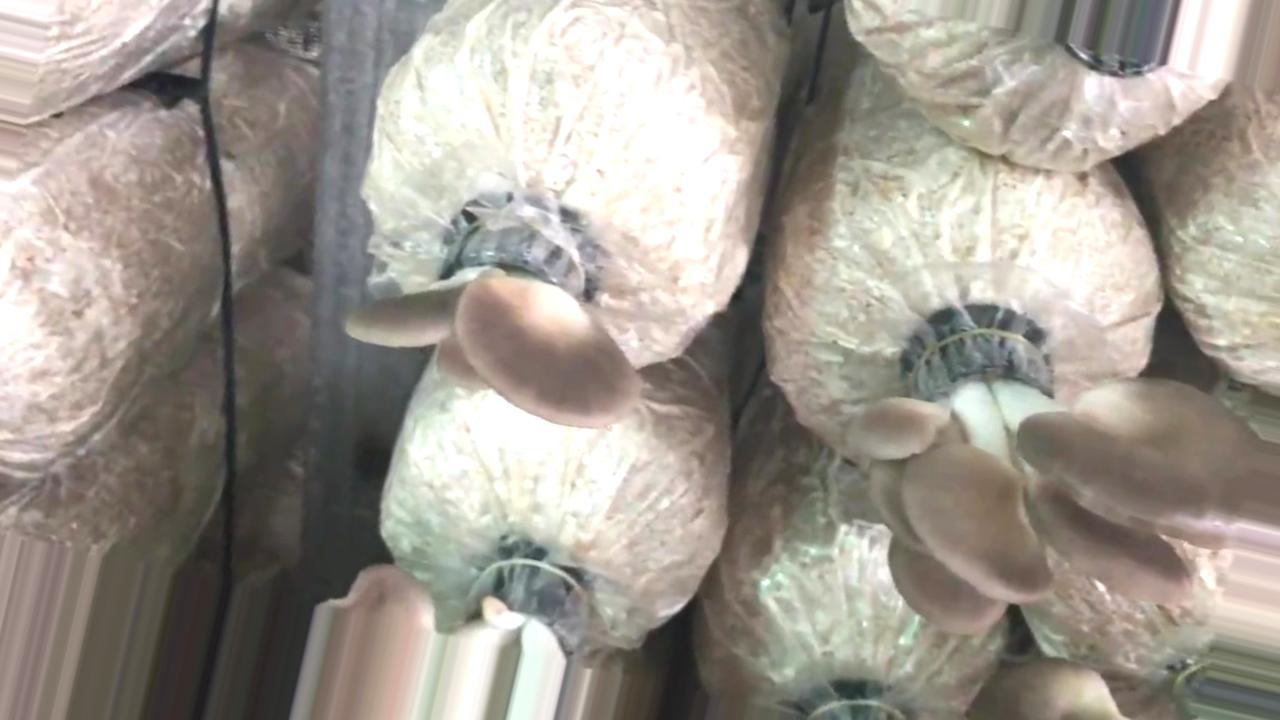nam: (850, 321, 1275, 638), (346, 209, 636, 432)
